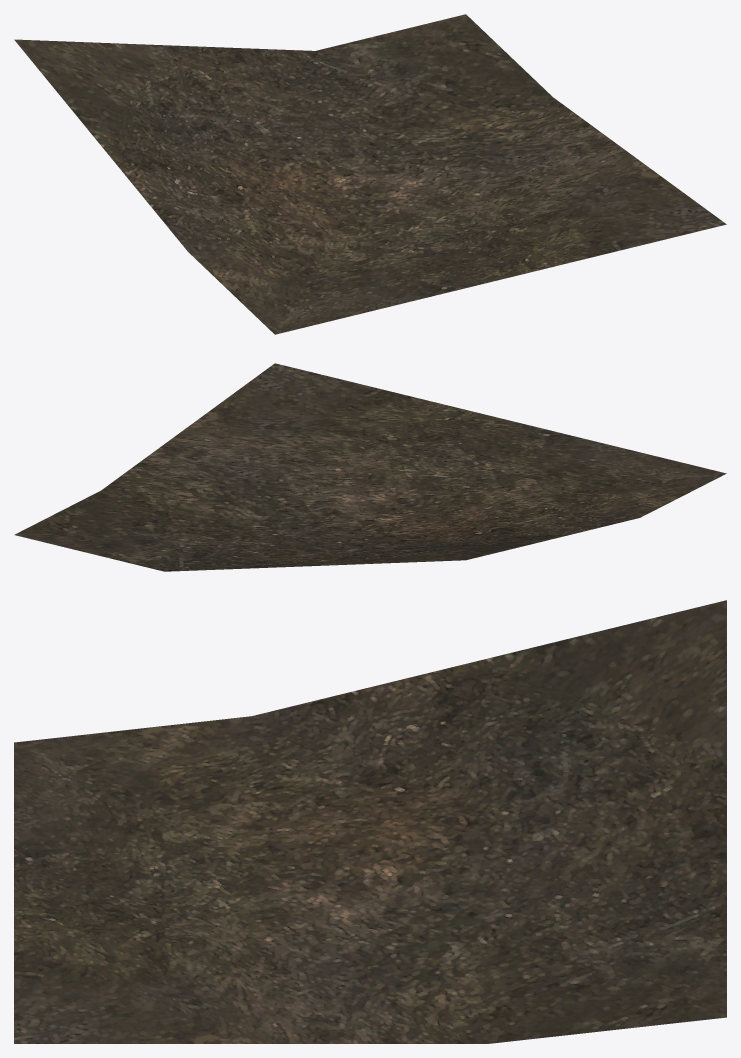
Rendered from blend_weeds04.fbx.
3 renders of one model, top to bottom at view 1: azimuth 30°, elevation 25°; view 2: azimuth 150°, elevation 25°; view 3: azimuth 270°, elevation 25°, orthographic. The views are drawn at different scales.
Visible parts, largest first — view 1: New_terrain/weeds_shadow; view 2: New_terrain/weeds_shadow; view 3: New_terrain/weeds_shadow.
Part boxes in pixels (box(x1,y1,x2,y2)): New_terrain/weeds_shadow: box(14, 14, 726, 334); New_terrain/weeds_shadow: box(14, 363, 726, 571); New_terrain/weeds_shadow: box(14, 600, 726, 1043).
Size of the model in its own units: 7.5 by 1.65 by 7.5.
